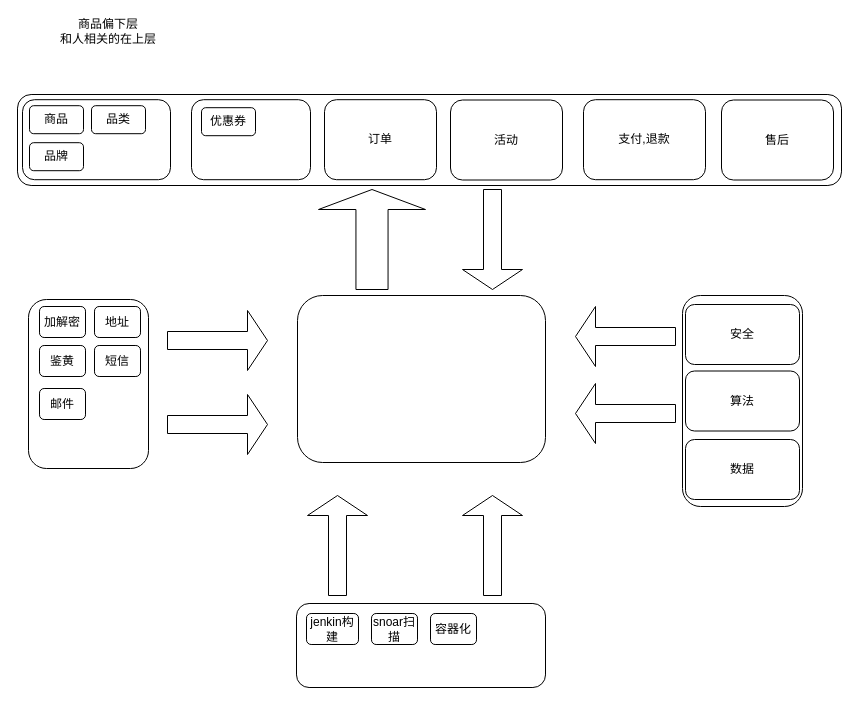
This 859x705 diagram has some shape labels left out. Each missing label, with the box of its shape:
... 基础服务: (28, 298, 148, 468)
... 运维能力: (296, 602, 546, 688)
能力沉淀反哺平台 (持续可发展的能力反哺): (296, 294, 546, 462)
